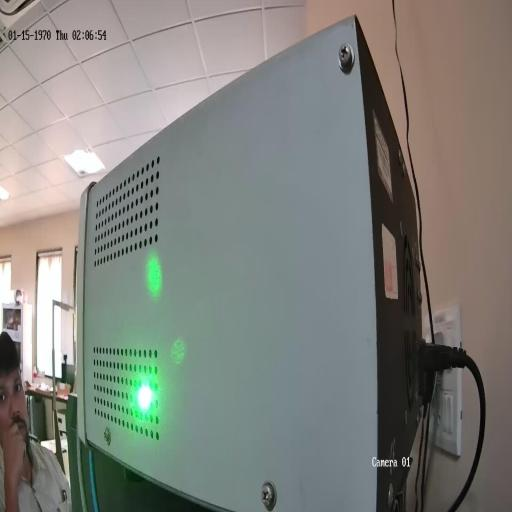laser: (135, 378, 154, 418)
